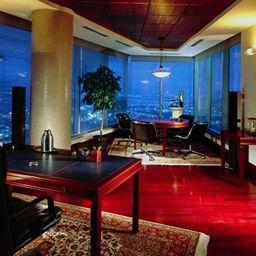Matera: (87, 72, 120, 150)
